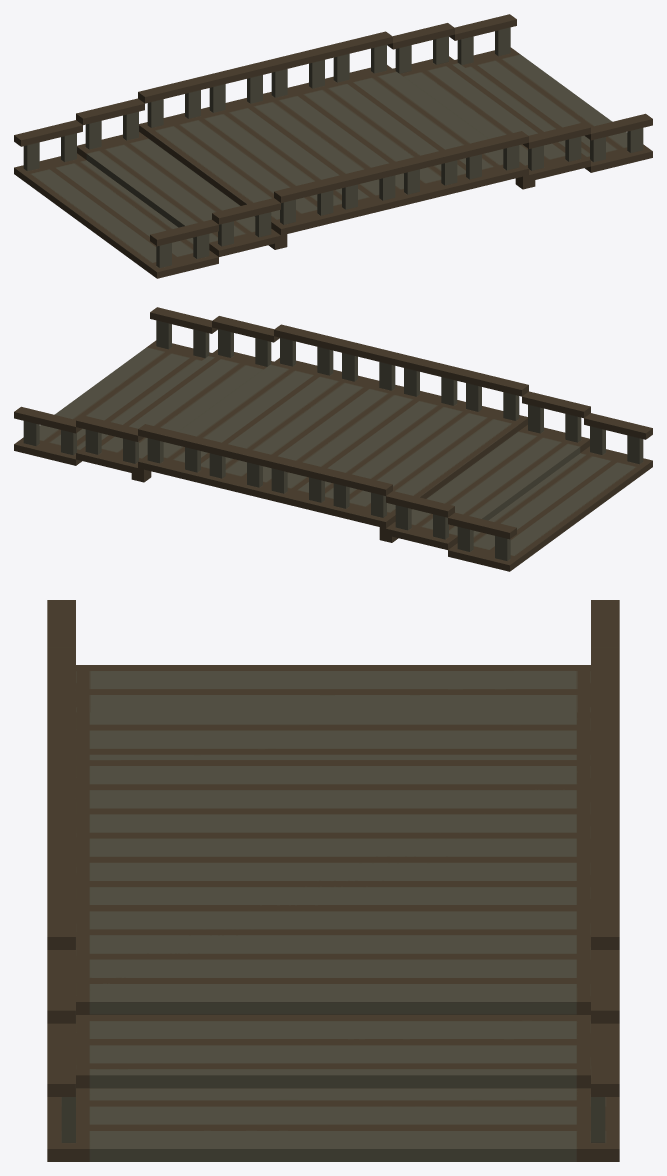
Rendered from wooden_bridge_overtile.glb.
3 renders of one model, top to bottom at view 1: azimuth 30°, elevation 25°; view 2: azimuth 150°, elevation 25°; view 3: azimuth 270°, elevation 25°, orthographic. The views are drawn at different scales.
Parts seen in each view (by area): view 1: wooden_bridge_overtile; view 2: wooden_bridge_overtile; view 3: wooden_bridge_overtile.
Part boxes in pixels (<box>): wooden_bridge_overtile: <box>14,14,652,278</box>; wooden_bridge_overtile: <box>14,307,652,571</box>; wooden_bridge_overtile: <box>47,600,619,1161</box>.
Bounding box in the file's own units: 8 × 0.8 × 4.
1 material, 1 textured.
